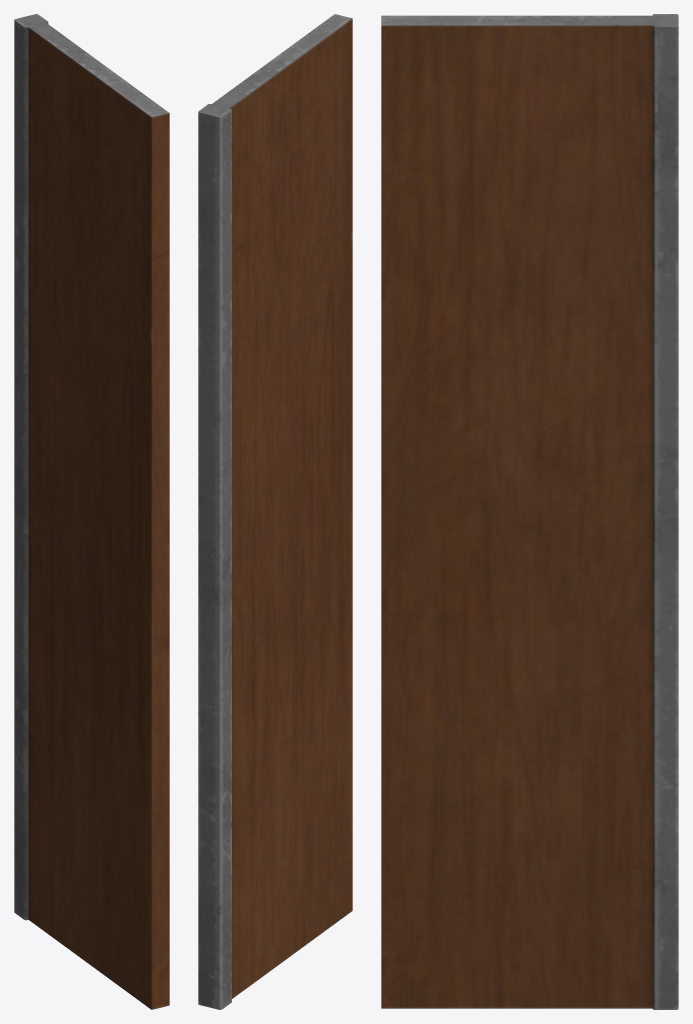
File: Cabin_Littel_Part3.fbx
3 views of the same model, side by side, from view 1: azimuth 30°, elevation 25°; view 2: azimuth 150°, elevation 25°; view 3: azimuth 270°, elevation 25° (orthographic). The views are drawn at different scales.
Parts seen in each view (by area): view 1: pasted__Low.002; view 2: pasted__Low.002; view 3: pasted__Low.002.
Part boxes in pixels (left/top/right/bottom): pasted__Low.002: left=14, top=14, right=169, bottom=1009; pasted__Low.002: left=198, top=14, right=352, bottom=1009; pasted__Low.002: left=381, top=14, right=678, bottom=1009.
Bounding box in the file's own units: 8.41 × 82.98 × 303.
1 material, 1 textured.
